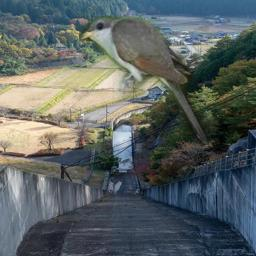Cuckoo: (79, 16, 209, 145)
